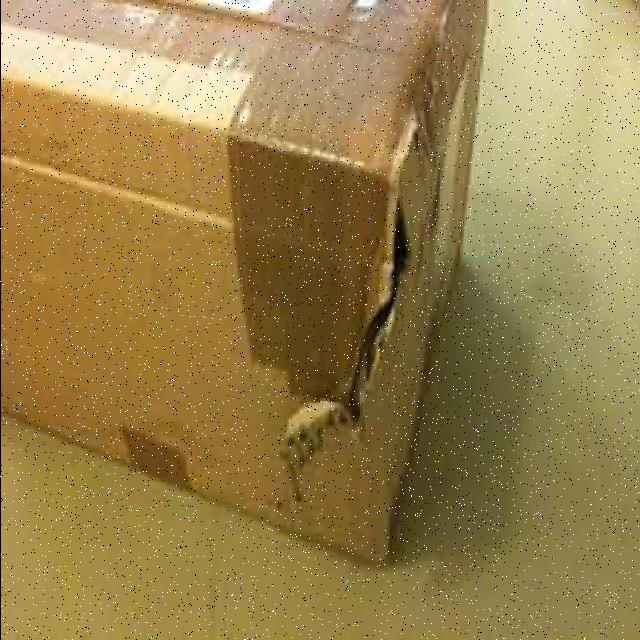defect: (0, 3, 494, 580)
